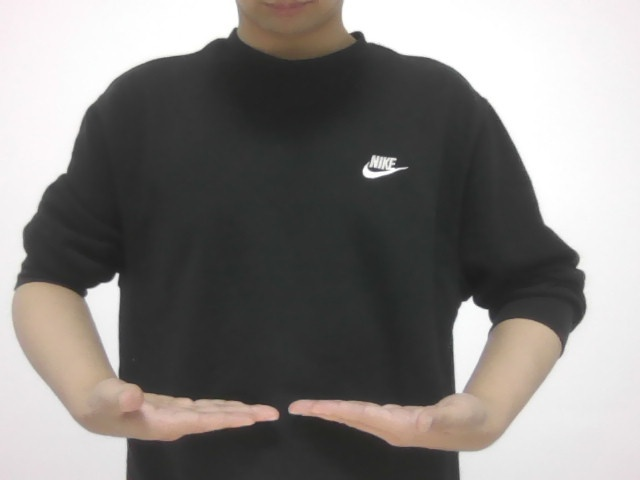today: (75, 321, 497, 473)
